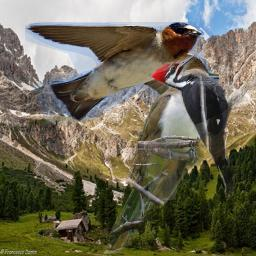Cuckoo: (102, 65, 219, 254)
Swallow: (25, 22, 226, 137)
Woodpecker: (148, 55, 246, 200)
